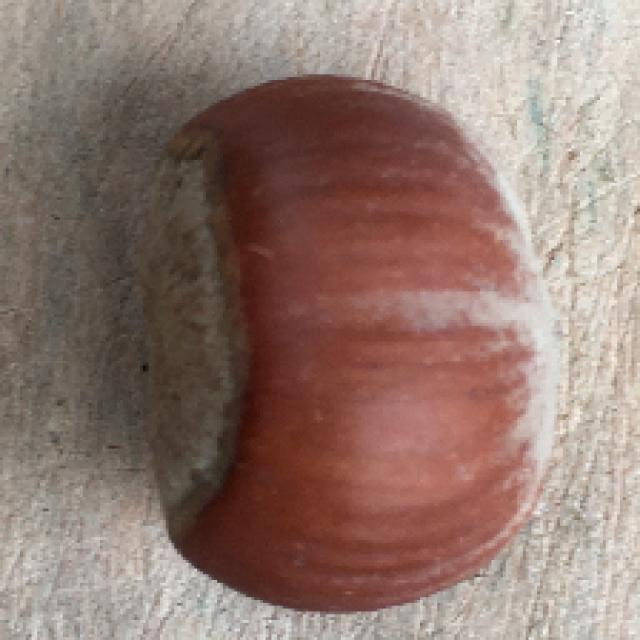qualityHazelnut: (103, 58, 570, 624)
